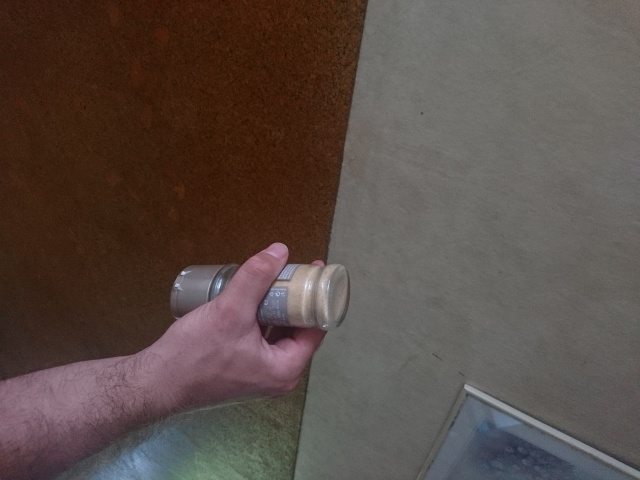Kotanyi Garlic Granules 70g: (167, 260, 352, 333)
